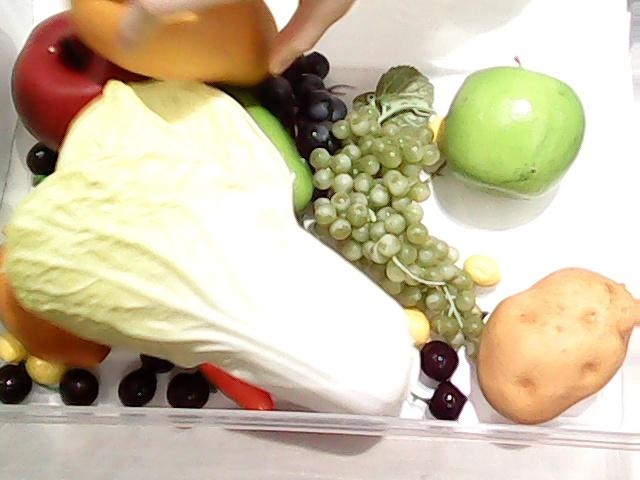apple: (1, 0, 163, 168), (432, 62, 588, 202)
carrot: (203, 354, 273, 409)
grape: (308, 114, 480, 358), (252, 48, 352, 164)
lemon: (0, 240, 112, 370)
mango: (71, 0, 281, 84)
napa cabbage: (1, 69, 420, 432)
pepper: (140, 33, 340, 207)
potato: (476, 268, 640, 426)
